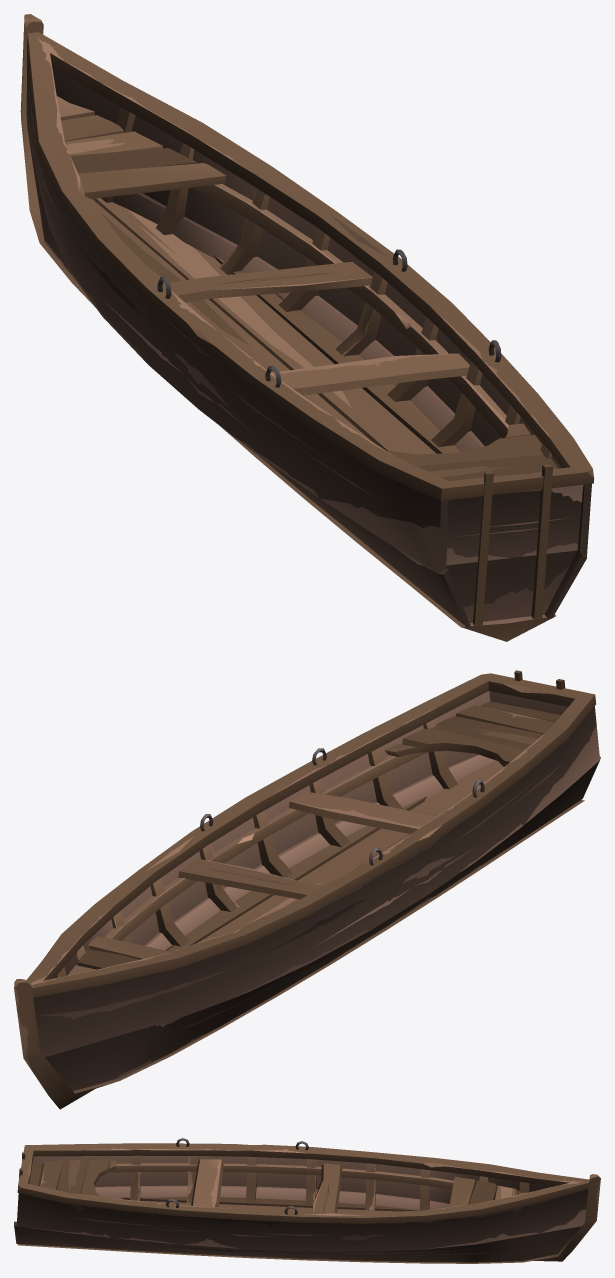
File: map_boat.glb
3 views of the same model, one above another, from view 1: azimuth 30°, elevation 25°; view 2: azimuth 150°, elevation 25°; view 3: azimuth 270°, elevation 25° (orthographic). The views are drawn at different scales.
Visible parts, largest first — view 1: map_boat; view 2: map_boat; view 3: map_boat.
Boxes of the visible parts, box(x1,y1,x2,y2) form: map_boat: box(20, 14, 594, 641); map_boat: box(14, 670, 600, 1109); map_boat: box(14, 1138, 600, 1263).
Bounding box in the file's own units: 0.3278 × 0.2245 × 1.29.
1 material, 1 textured.
